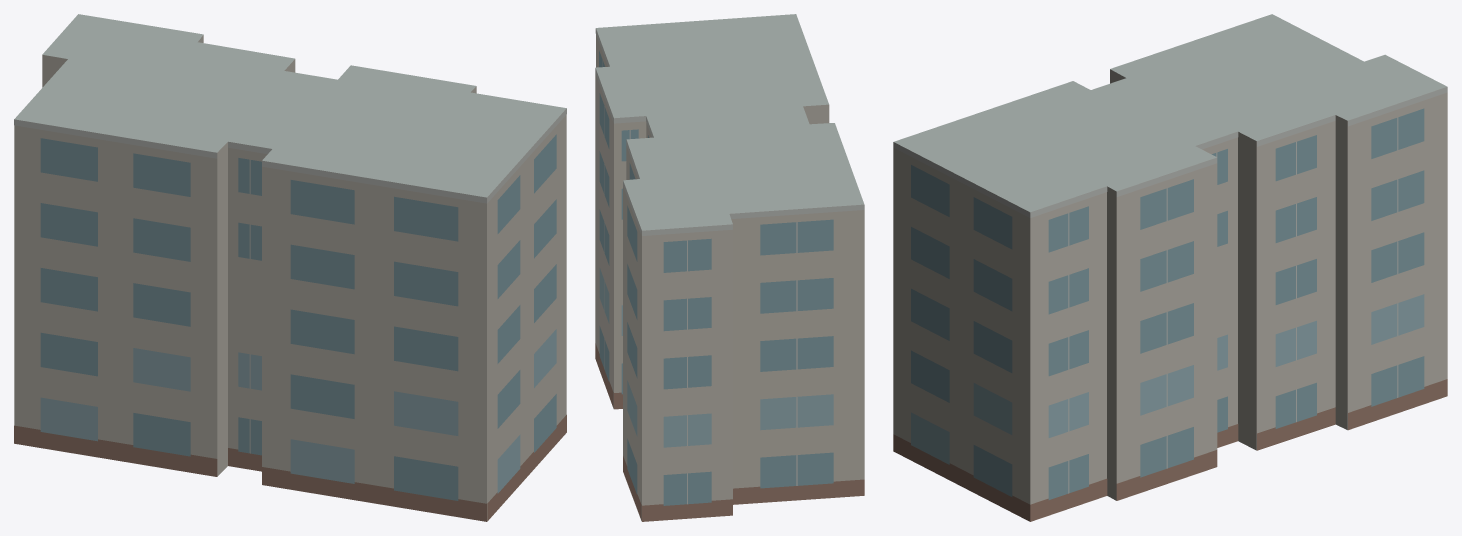
Rendered from survey-upis-32681852.glb.
The picture shows the model from 3 angles, left to right: view 1: azimuth 30°, elevation 25°; view 2: azimuth 150°, elevation 25°; view 3: azimuth 270°, elevation 25°; orthographic projection. The views are drawn at different scales.
Visible parts, largest first — view 1: survey-upis-32681852.tmp; view 2: survey-upis-32681852.tmp; view 3: survey-upis-32681852.tmp.
Part boxes in pixels (x1,y1,x2,y2): survey-upis-32681852.tmp: [14, 14, 566, 521]; survey-upis-32681852.tmp: [595, 14, 864, 521]; survey-upis-32681852.tmp: [893, 14, 1447, 521].
Size of the model in its own units: 18.01 by 13.1 by 21.26.
